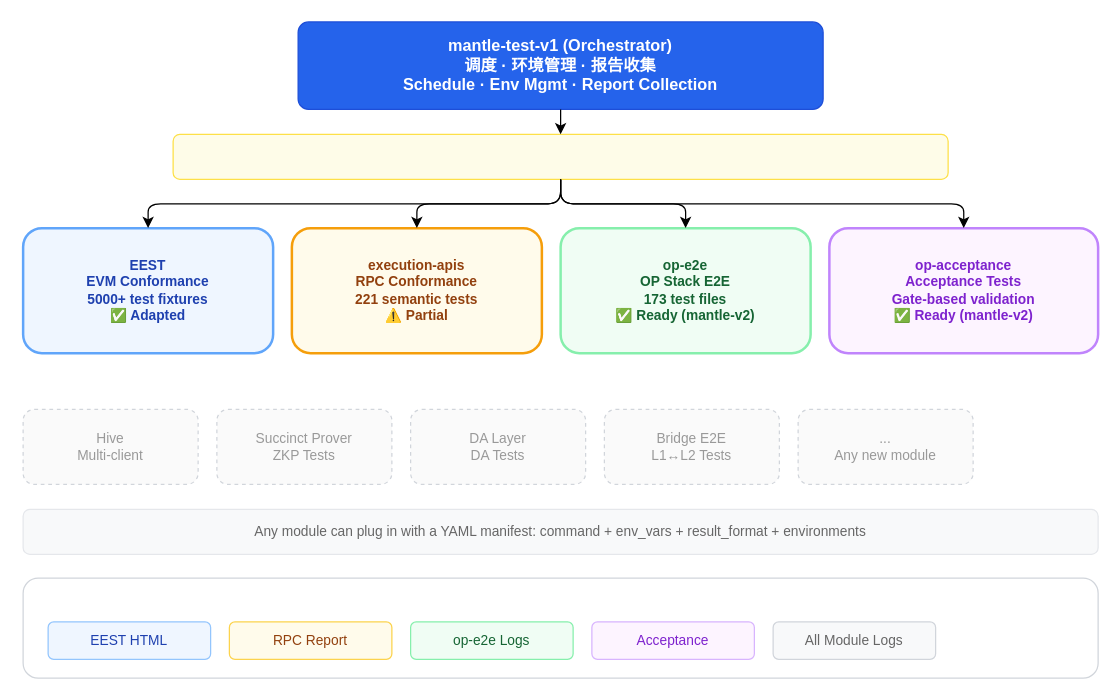
This 1120x700 diagram has some shape labels left out. Here are the shapes that lost their labels. From the top down, the box of each, then its label:
(172, 133, 948, 179): Module Plugin Interface (YAML Manifest → shell command → result file)
(22, 577, 1098, 678): Reports 报告
